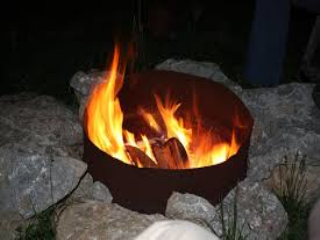fire: (77, 66, 239, 178)
